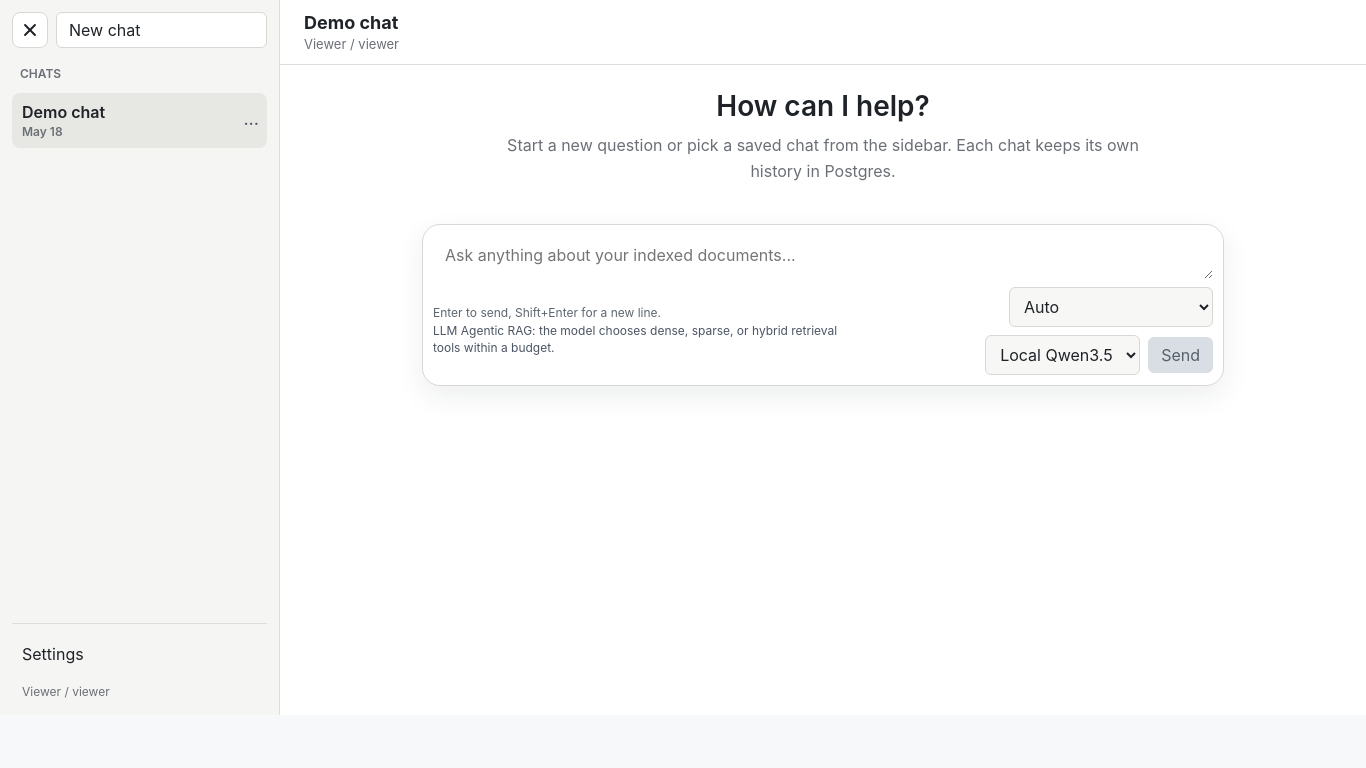
Test: can delete a saved chat from the sidebar
Expected: the heading "Demo chat" is shown, [304, 12, 399, 33]
Click the button named "Chat actions for Demo chat".
click(251, 120)  # box [235, 106, 267, 136]
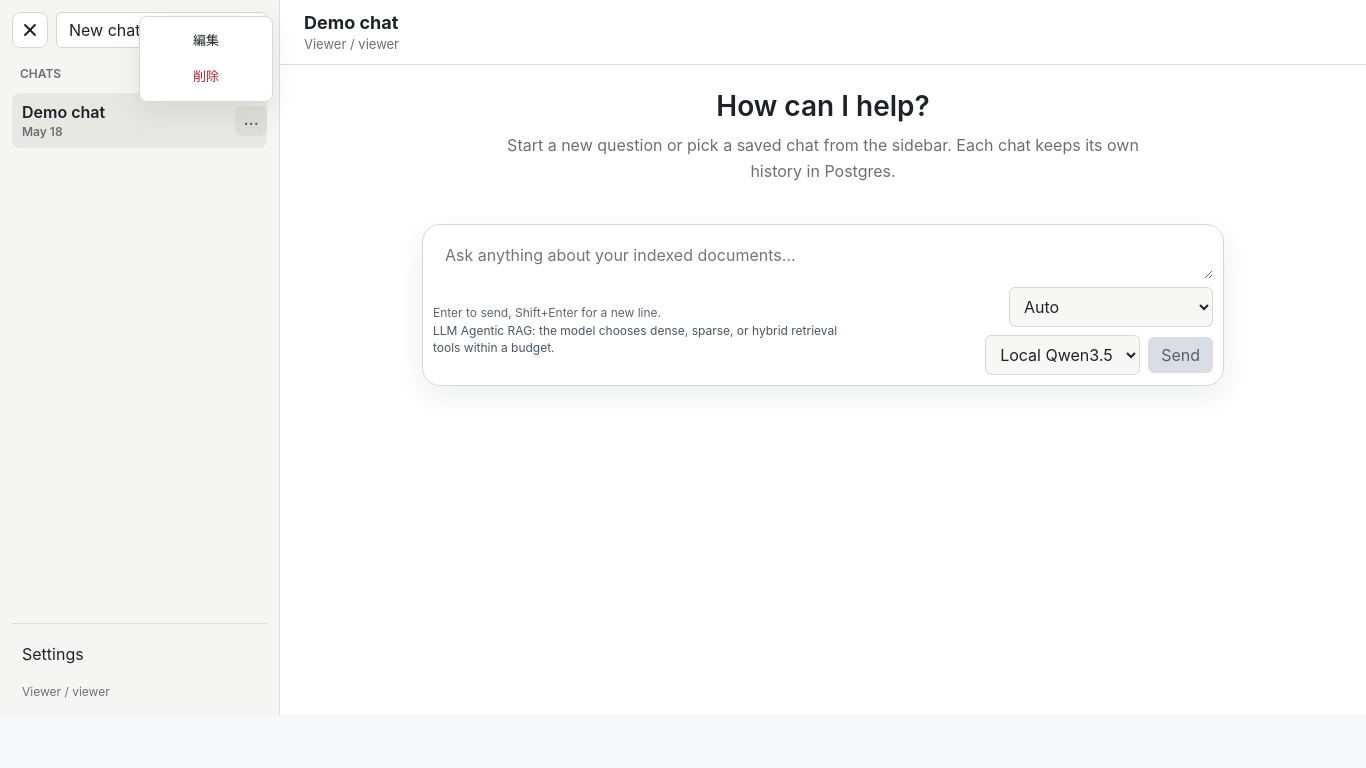
Click the menu item "削除".
click(206, 76)  # box [146, 58, 266, 94]
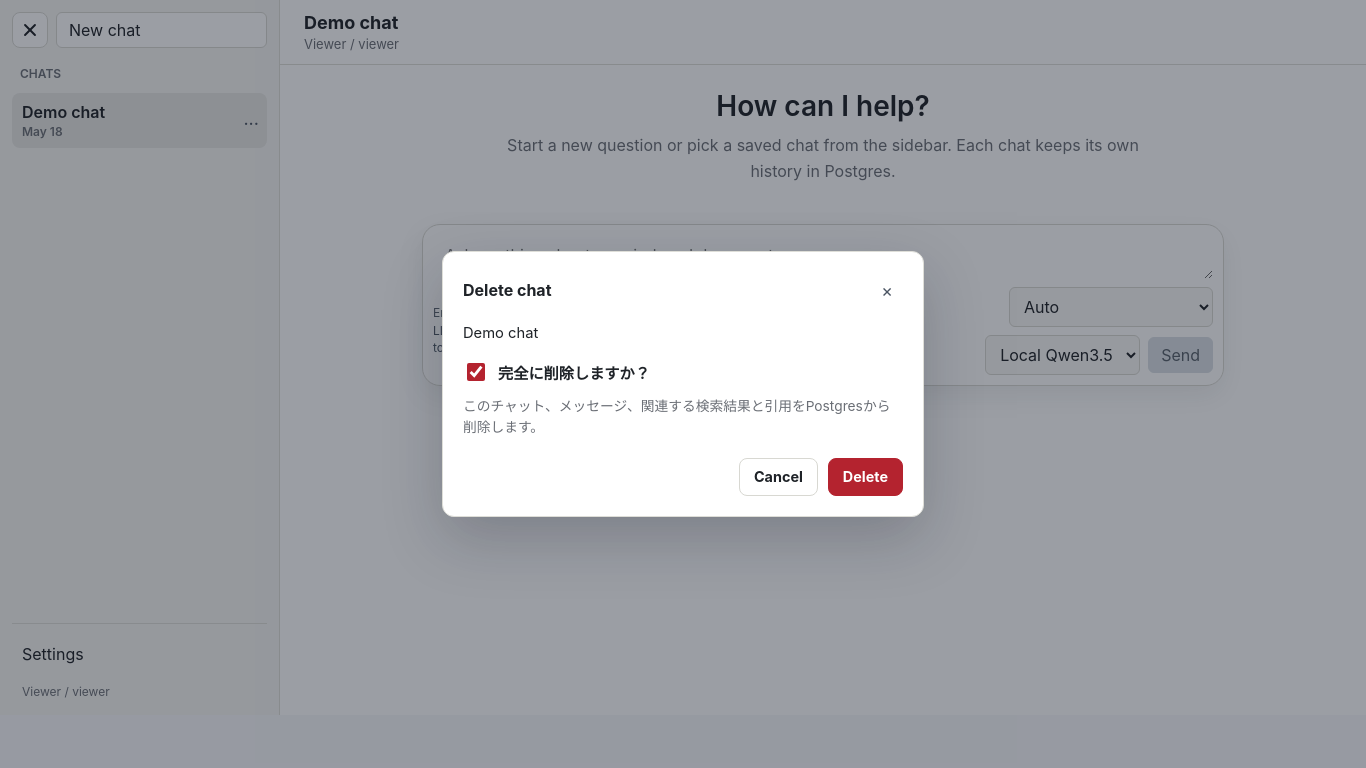
Expected: the checkbox labelled "完全に削除しますか？" is checked, [467, 363, 485, 381]
Click the button "Delete".
click(865, 477)  # box [828, 458, 903, 496]
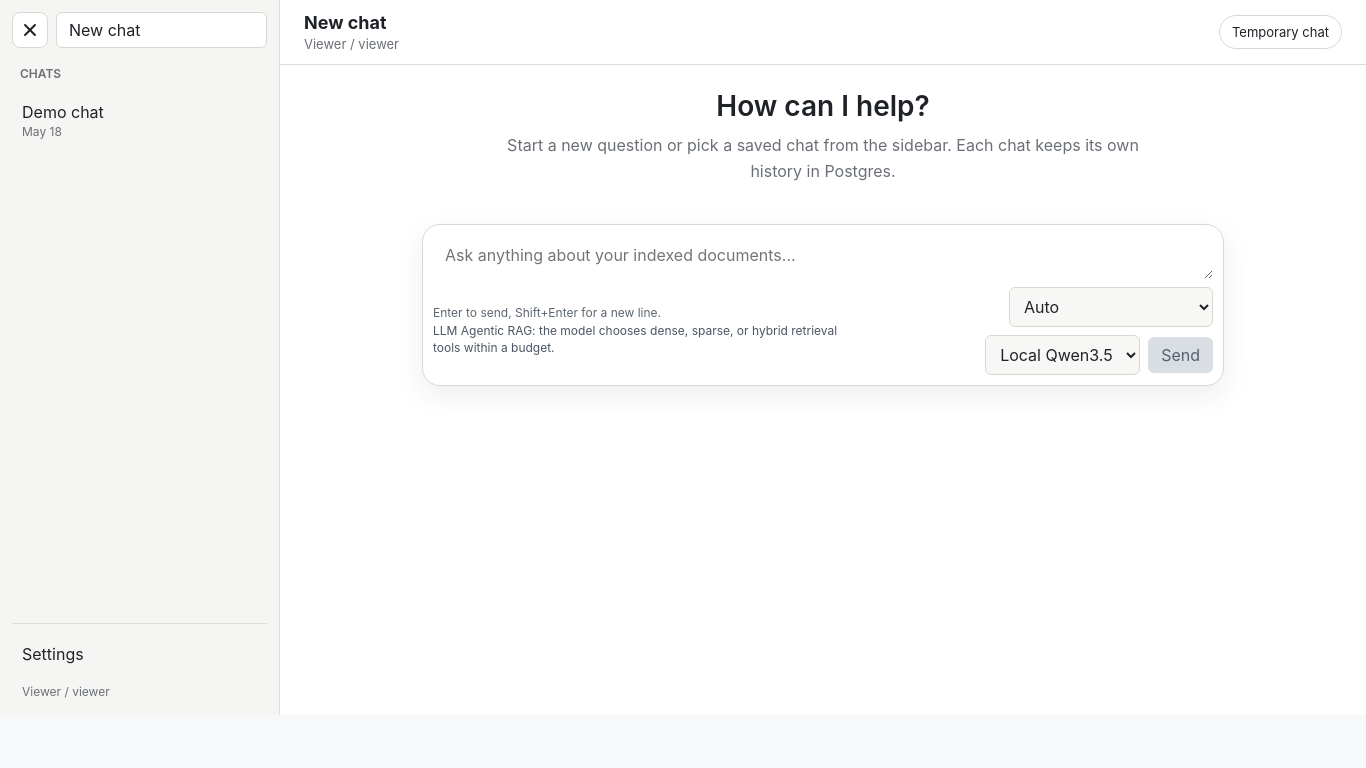
Expected: the heading "New chat" is shown, [304, 12, 399, 33]
